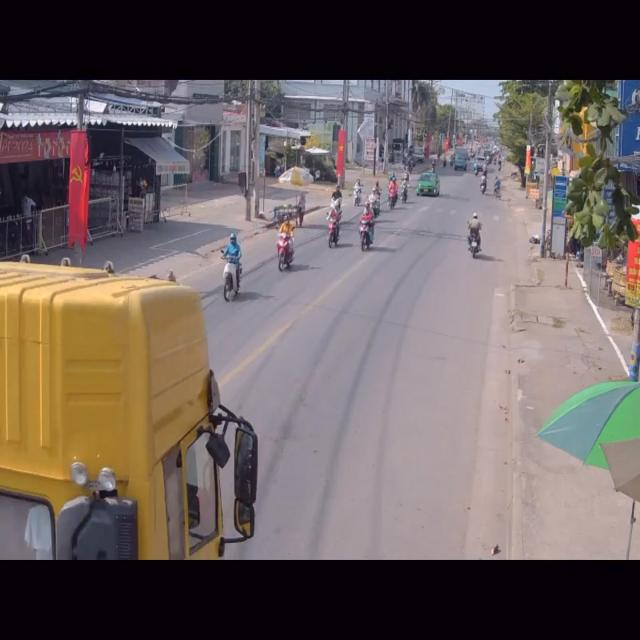motorbike: (220, 233, 246, 306), (277, 220, 295, 274), (359, 203, 375, 254), (466, 210, 481, 258), (327, 206, 341, 252), (388, 176, 398, 214)
truck: (3, 267, 263, 562)
